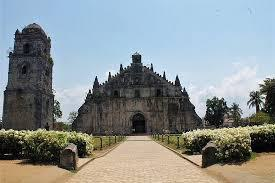paoay_church_paoay_ilocos_norte: (1, 17, 205, 135)
